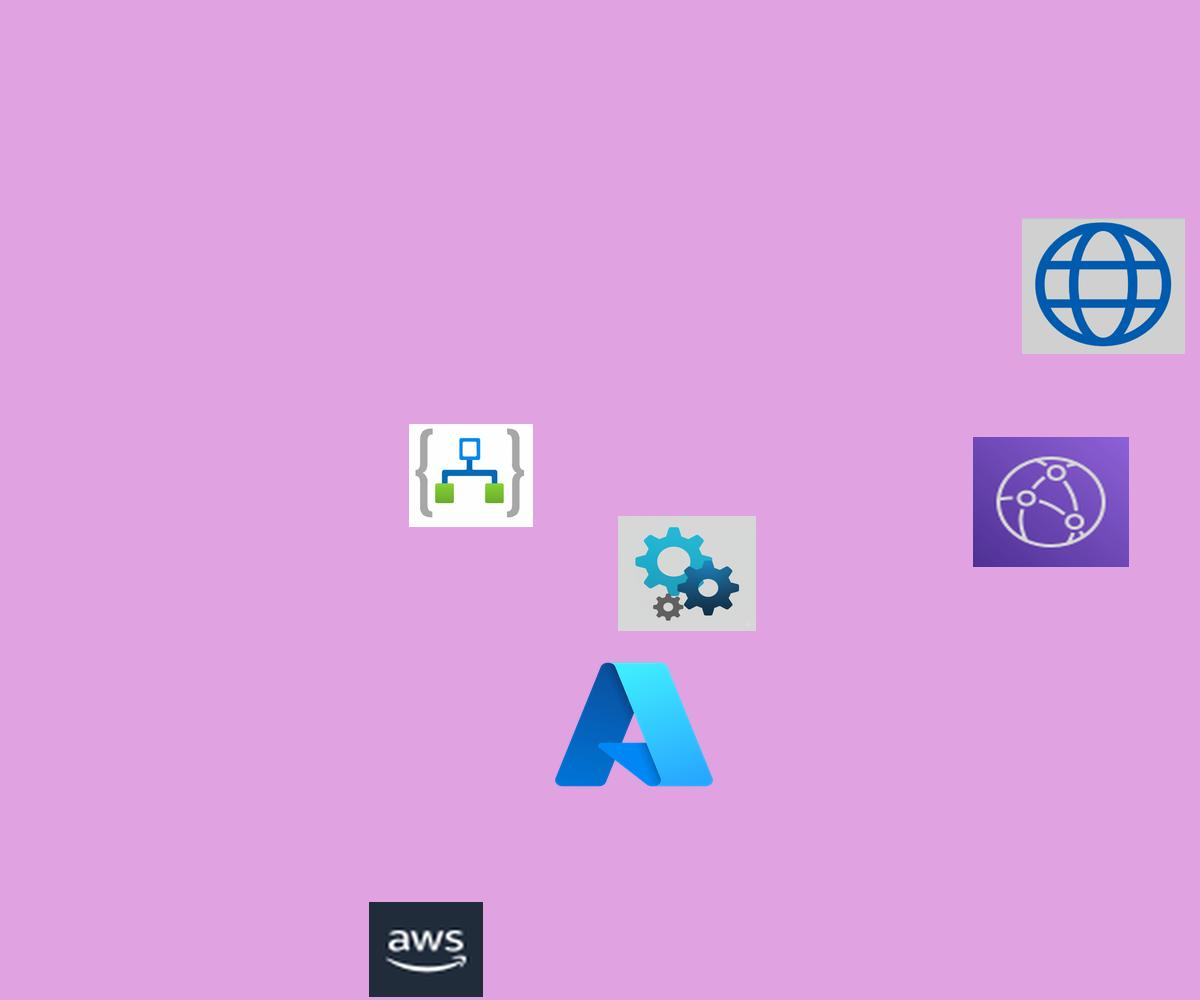AWS-Cloud-logo: (369, 902, 483, 997)
AWS-CloudFront: (973, 437, 1129, 567)
Azure_api: (618, 516, 756, 631)
Azure_http: (1022, 218, 1185, 354)
Azure_integration-204-Logic-Apps: (409, 424, 533, 527)
Azure_services: (548, 653, 720, 796)
